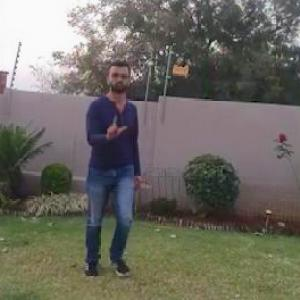land_hand: (103, 111, 133, 139)
